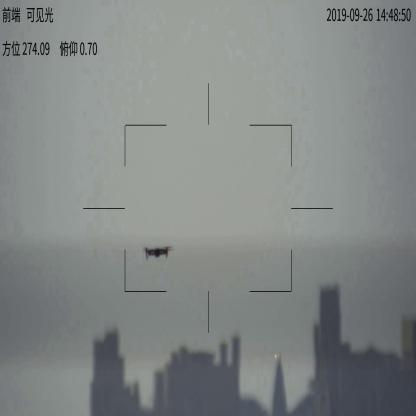uav: (140, 242, 174, 260)
